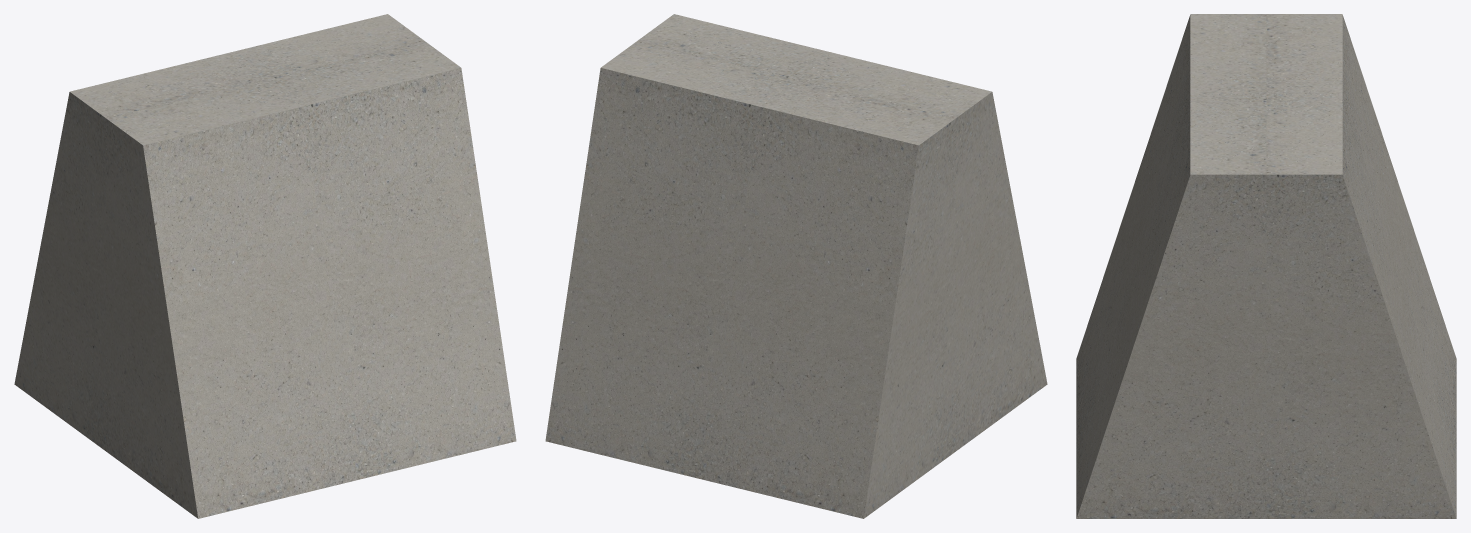
Rendered from env_levee_straight.glb.
3 views of the same model, side by side, from view 1: azimuth 30°, elevation 25°; view 2: azimuth 150°, elevation 25°; view 3: azimuth 270°, elevation 25° (orthographic). The views are drawn at different scales.
Visible parts, largest first — view 1: env_levee_straight; view 2: env_levee_straight; view 3: env_levee_straight.
Boxes of the visible parts, bbox=[...] form: env_levee_straight: bbox=[14, 14, 516, 518]; env_levee_straight: bbox=[545, 14, 1047, 518]; env_levee_straight: bbox=[1076, 14, 1456, 518].
Size of the model in its own units: 2 by 2 by 2.
1 material, 1 textured.
